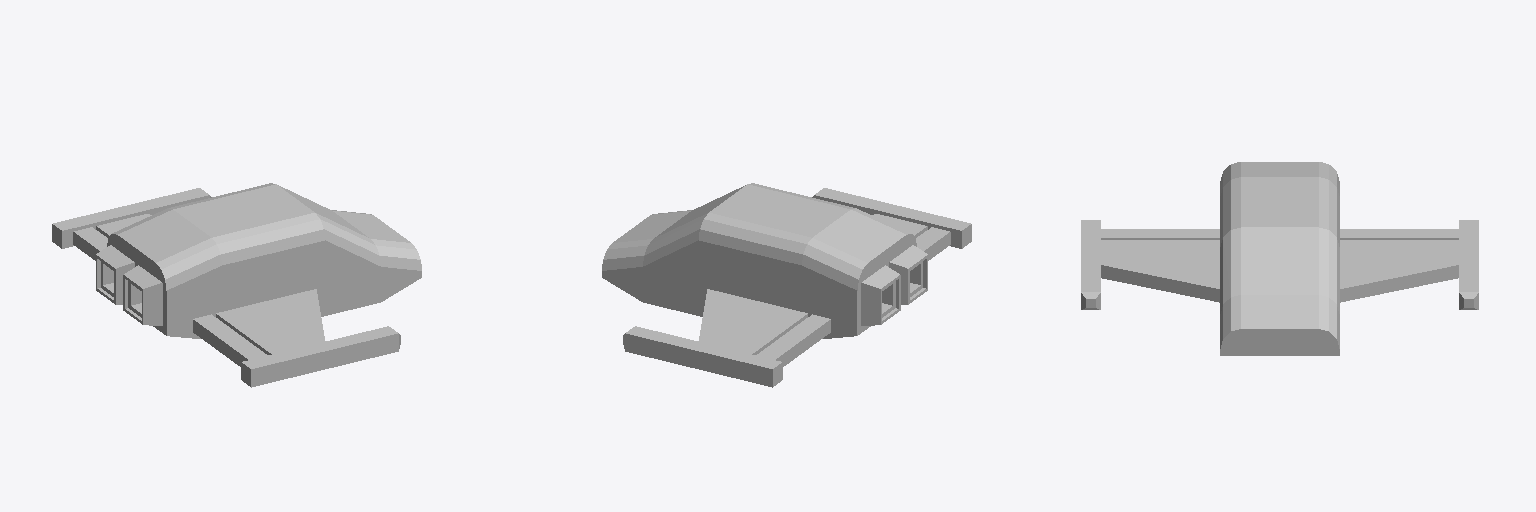
File: temp player.obj
3 renders of one model, left to right at view 1: azimuth 30°, elevation 25°; view 2: azimuth 150°, elevation 25°; view 3: azimuth 270°, elevation 25°, orthographic.
Visible parts, largest first — view 1: Cube.002; view 2: Cube.002; view 3: Cube.002.
Part boxes in pixels (left/top/right/bottom): Cube.002: left=52, top=183, right=421, bottom=387; Cube.002: left=602, top=183, right=971, bottom=387; Cube.002: left=1081, top=162, right=1478, bottom=355.
Size of the model in its own units: 5.28 by 1.77 by 6.67.